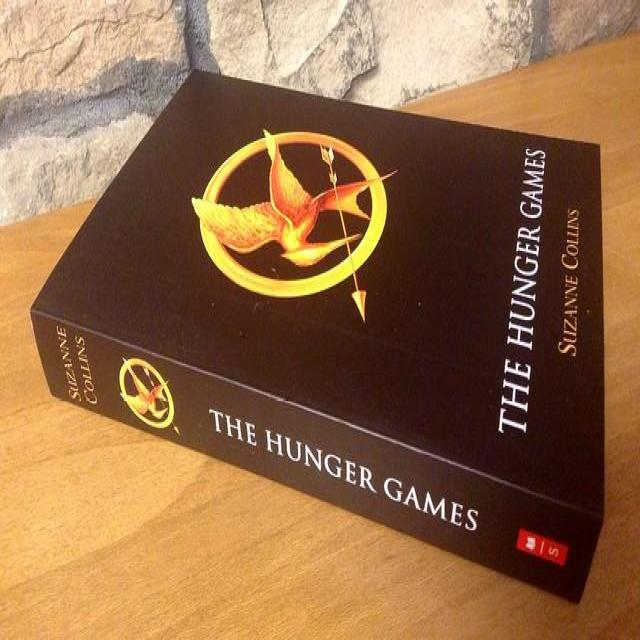paper: (33, 66, 603, 609)
